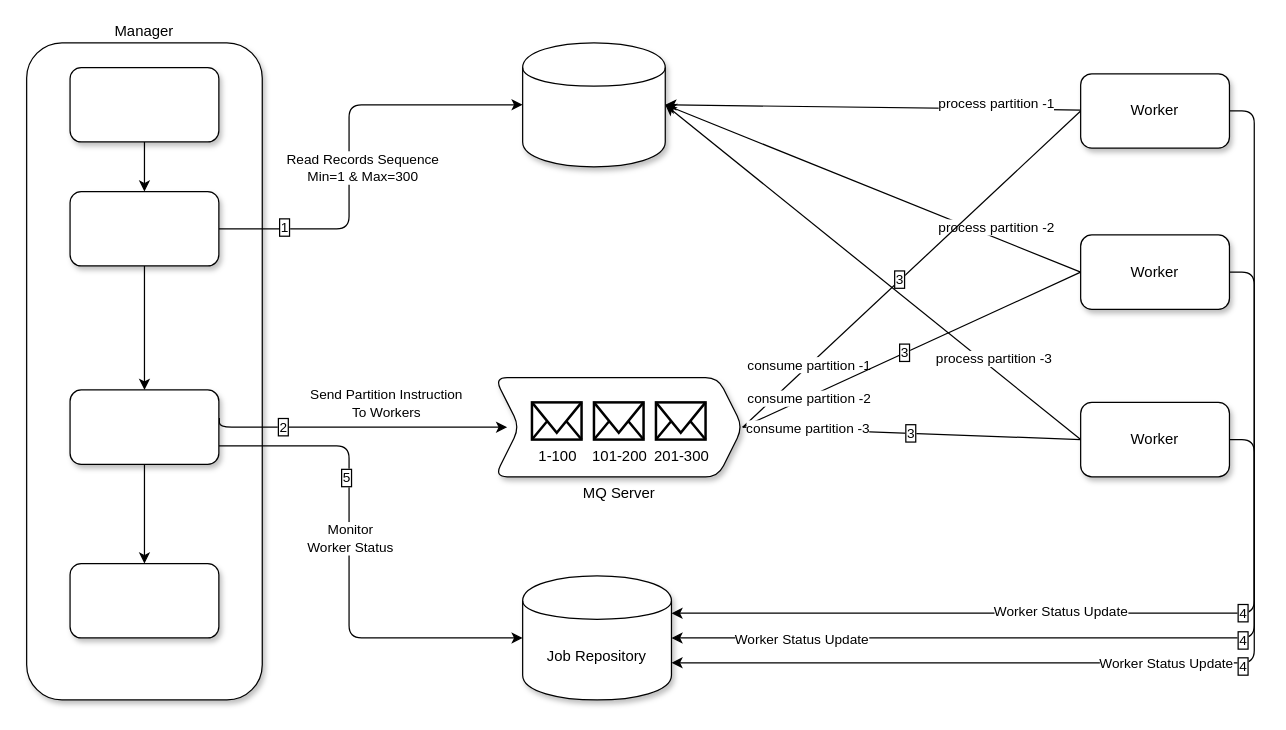
Some shapes in this 1286 by 730 pixel diagram are drawn without their labels. Each missing label, with the centre of its shape:
Data Store: the point at 594,106
End Task: the point at 145,602
Partition Handler: the point at 145,428
Partitioner: the point at 145,230
Step: the point at 145,106
